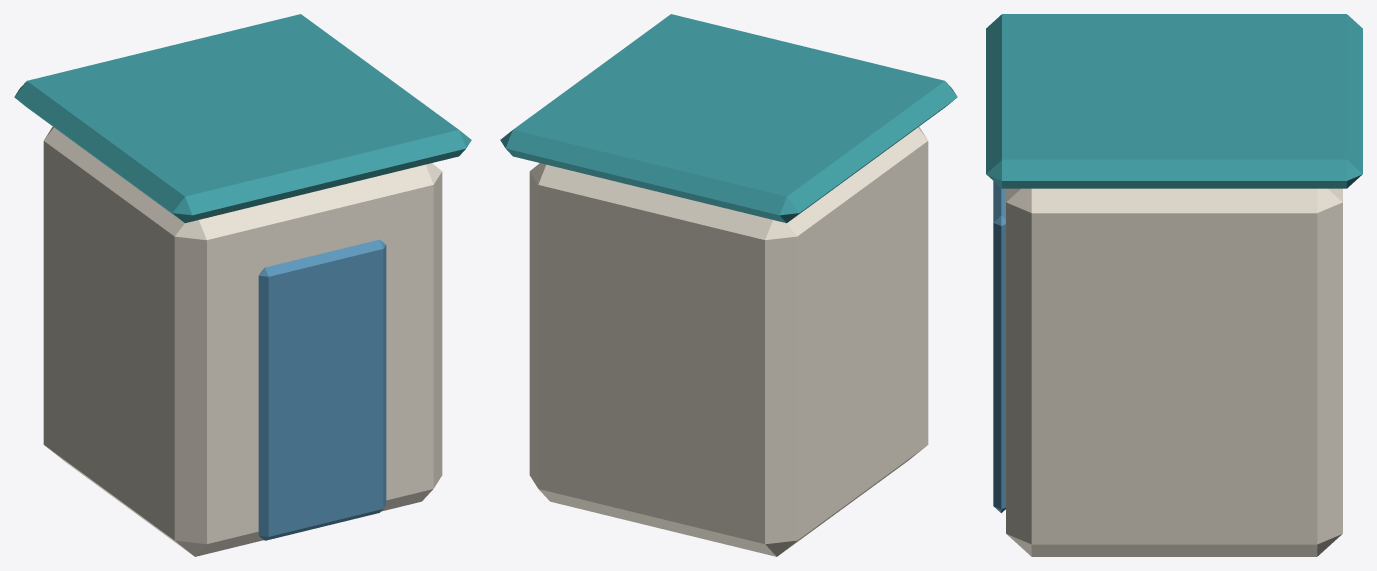
3 views of the same model, side by side, from view 1: azimuth 30°, elevation 25°; view 2: azimuth 150°, elevation 25°; view 3: azimuth 270°, elevation 25° (orthographic). The views are drawn at different scales.
Visible parts, largest first — view 1: LOD2_CHANGING_CABIN_Body, LOD2_CHANGING_CABIN_Roof, LOD2_CHANGING_CABIN_Door; view 2: LOD2_CHANGING_CABIN_Body, LOD2_CHANGING_CABIN_Roof; view 3: LOD2_CHANGING_CABIN_Body, LOD2_CHANGING_CABIN_Roof, LOD2_CHANGING_CABIN_Door.
Part boxes in pixels (x1,y1,x2,y2): LOD2_CHANGING_CABIN_Body: (43, 127, 442, 556); LOD2_CHANGING_CABIN_Roof: (14, 14, 471, 223); LOD2_CHANGING_CABIN_Door: (258, 239, 386, 540); LOD2_CHANGING_CABIN_Body: (529, 127, 928, 556); LOD2_CHANGING_CABIN_Roof: (500, 14, 957, 223); LOD2_CHANGING_CABIN_Body: (1006, 188, 1342, 556); LOD2_CHANGING_CABIN_Roof: (986, 14, 1362, 188); LOD2_CHANGING_CABIN_Door: (993, 181, 1005, 513).
Size of what is drawn, in the model's own units: 2.35 by 2.82 by 2.35.
